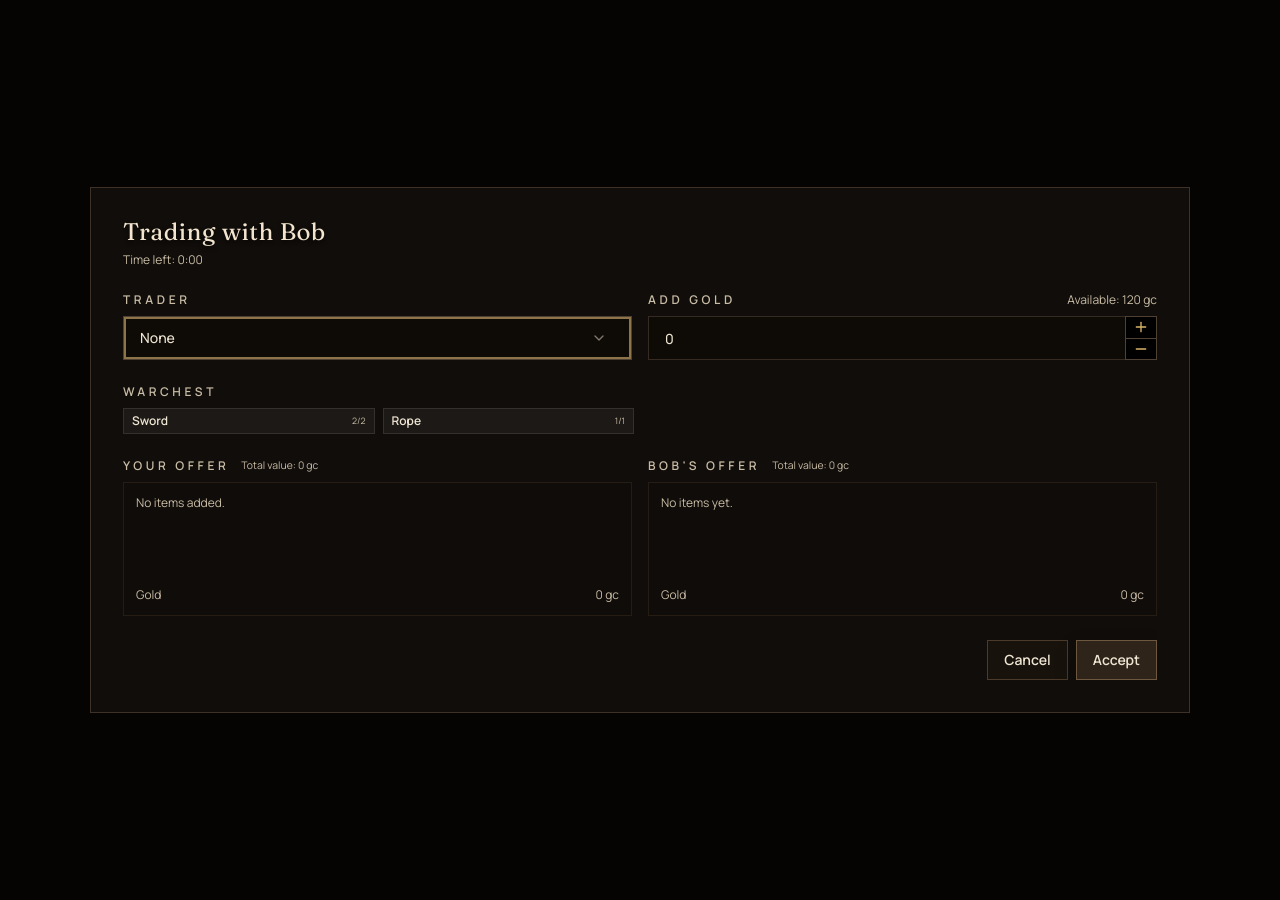
Test case: TradeSessionDialog: offer autosave › says the other player left when an offer save is refused (SEC-08)
Click the button "Rope 1/1".
click(508, 421)  # box [382,408,634,434]
Wait 600 ms
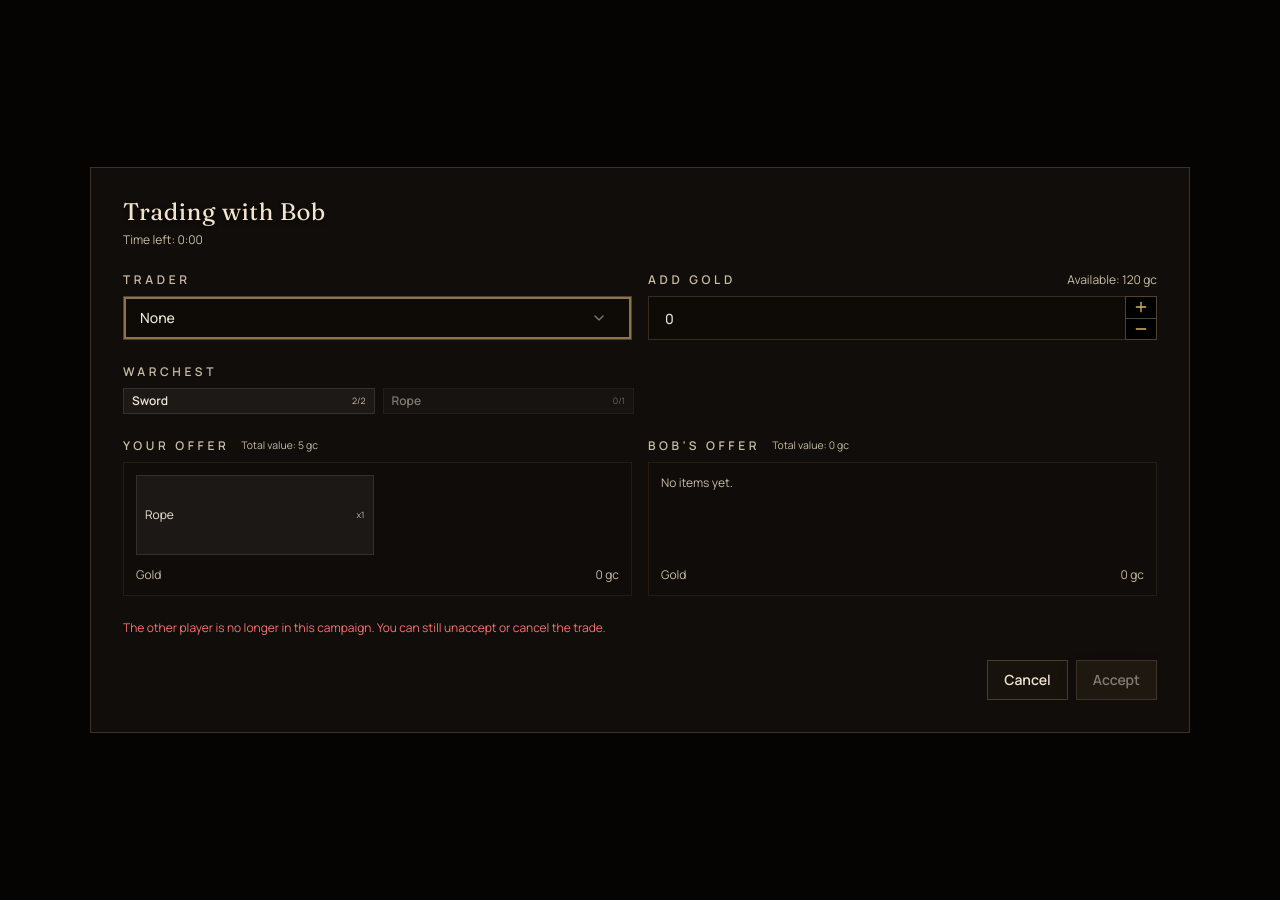
Result: the text "The other player is no longer in this campaign. You can still unaccept or cancel the trade." is shown at [123,619,606,636]
